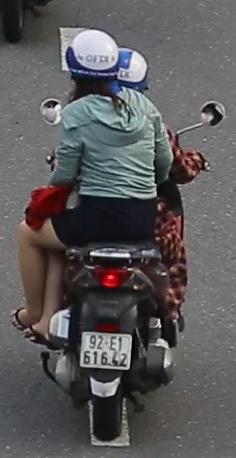LP: (79, 328, 134, 372)
helmet: (62, 25, 121, 85), (115, 42, 155, 92)
